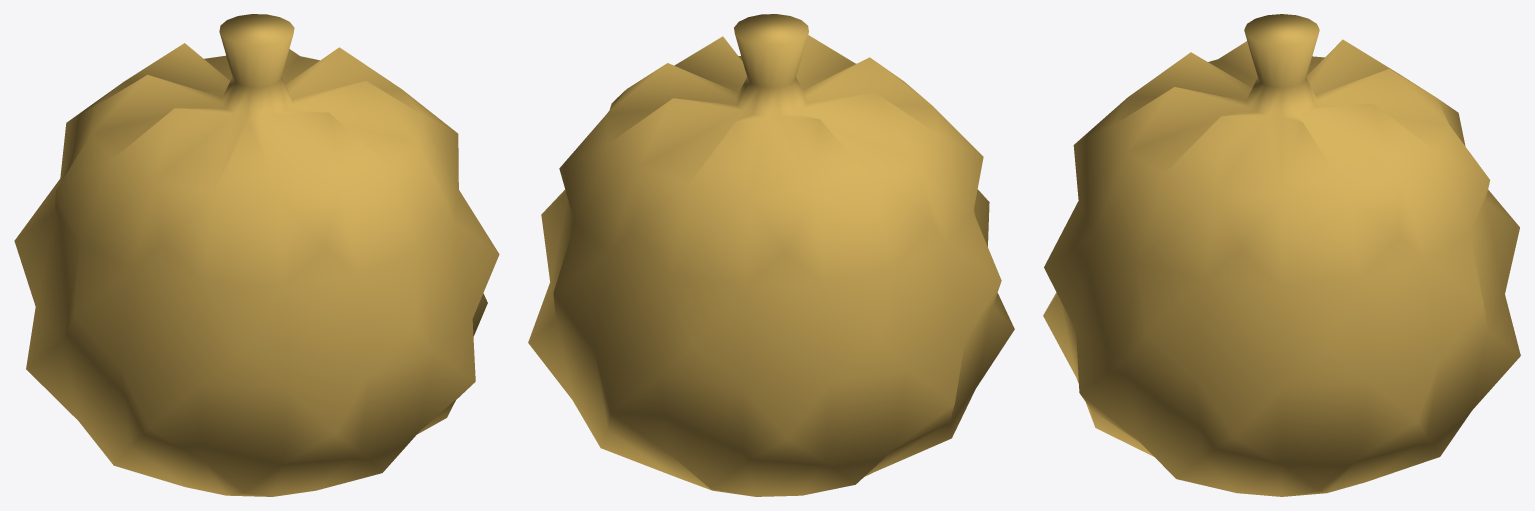
File: durian.fbx
3 renders of one model, left to right at view 1: azimuth 30°, elevation 25°; view 2: azimuth 150°, elevation 25°; view 3: azimuth 270°, elevation 25°, orthographic.
Visible parts, largest first — view 1: Durian; view 2: Durian; view 3: Durian.
Part boxes in pixels (left/top/right/bottom): Durian: left=14, top=14, right=499, bottom=496; Durian: left=528, top=14, right=1014, bottom=496; Durian: left=1043, top=14, right=1520, bottom=496.
Bounding box in the file's own units: 20.23 × 20.23 × 20.29.
